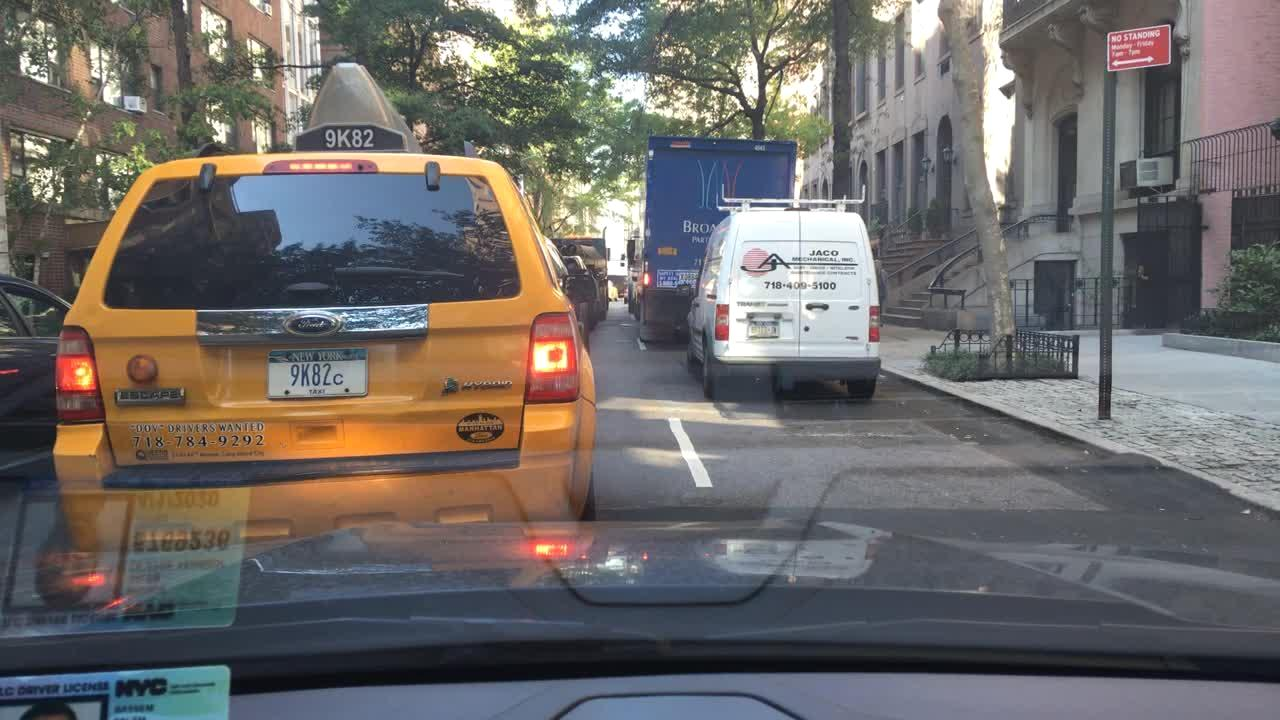ford: (282, 309, 358, 349)
